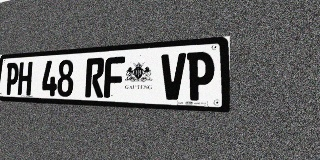4: (41, 60, 58, 96)
8: (57, 59, 75, 97)
F: (104, 56, 125, 98)
H: (17, 62, 33, 95)
P: (186, 51, 215, 101), (5, 62, 19, 95)
R: (85, 57, 105, 98)
V: (160, 53, 186, 100)
